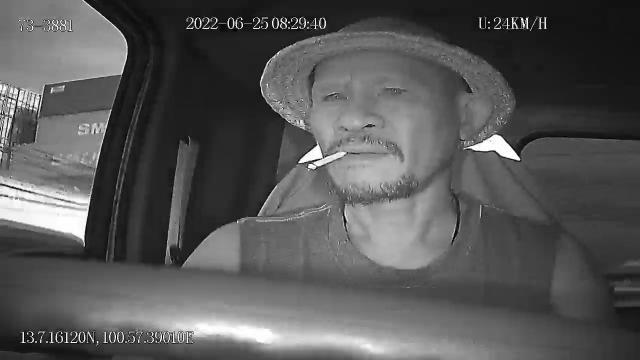SafeDriving: (372, 77, 414, 101), (316, 84, 352, 108)
Smoking: (307, 150, 348, 172)
